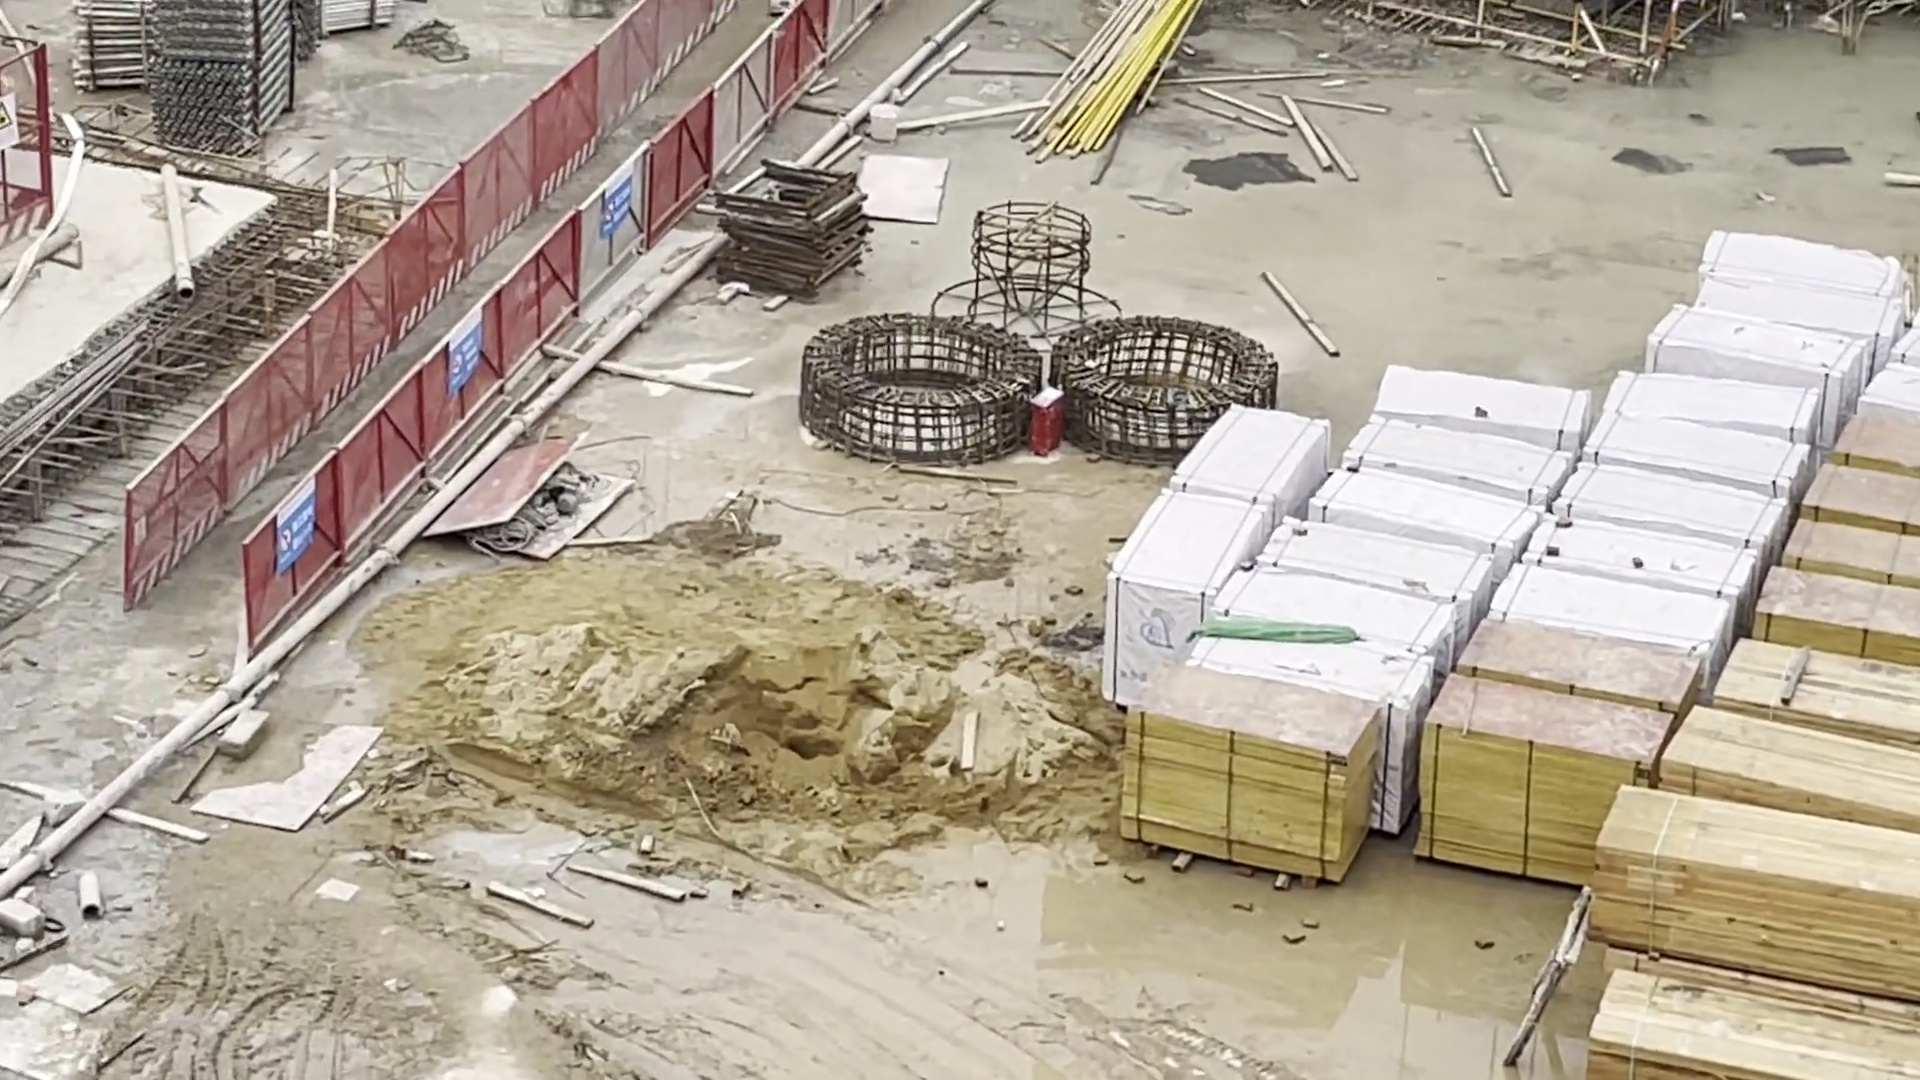fence: (131, 11, 837, 615)
scaffold: (136, 1, 258, 164), (61, 3, 170, 109), (297, 1, 400, 46)
slogan: (260, 483, 331, 574), (601, 146, 642, 260), (442, 309, 488, 396)
wood: (1404, 673, 1687, 899), (1586, 791, 1913, 971), (1124, 654, 1382, 880), (1596, 963, 1912, 1080), (1665, 715, 1911, 833), (1721, 636, 1920, 750), (1766, 566, 1920, 655), (1784, 521, 1920, 589), (1808, 462, 1920, 534), (1837, 398, 1920, 460)
